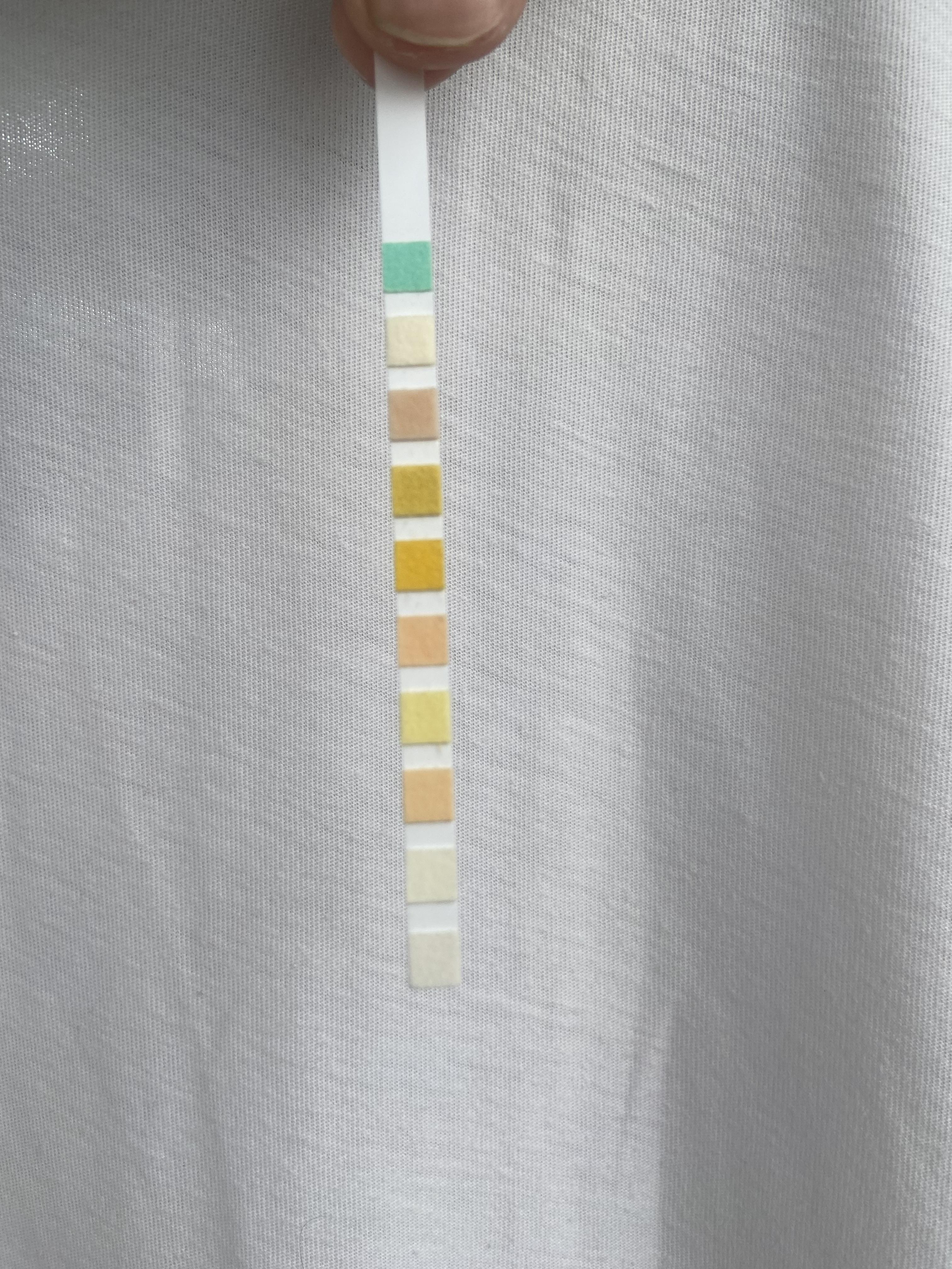Bilirubin: (386, 317, 436, 365)
Blood: (395, 541, 444, 589)
Glucose: (382, 244, 432, 291)
Ketone: (388, 392, 438, 439)
Leukocytes: (408, 935, 458, 983)
Nitrite: (406, 852, 456, 900)
Protein: (399, 694, 449, 741)
SpGravity: (392, 467, 442, 514)
Urobilinogen: (404, 773, 454, 820)
pH: (398, 618, 448, 665)
strip: (378, 81, 460, 985)
